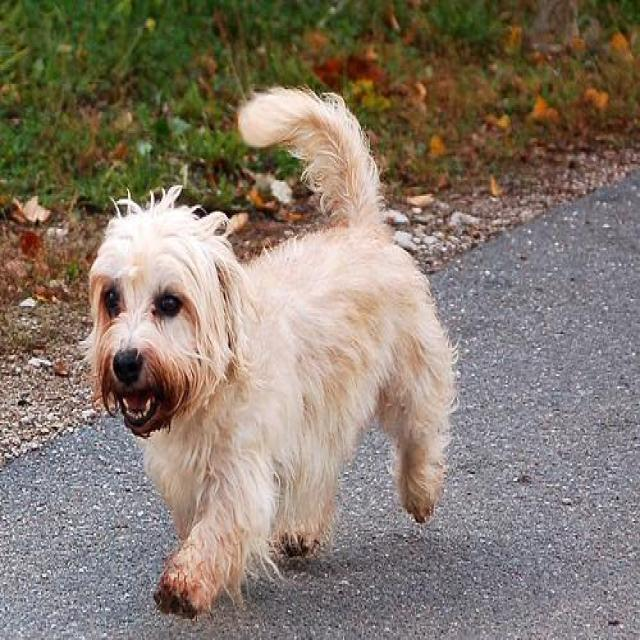dandie_dinmont: (74, 82, 463, 623)
